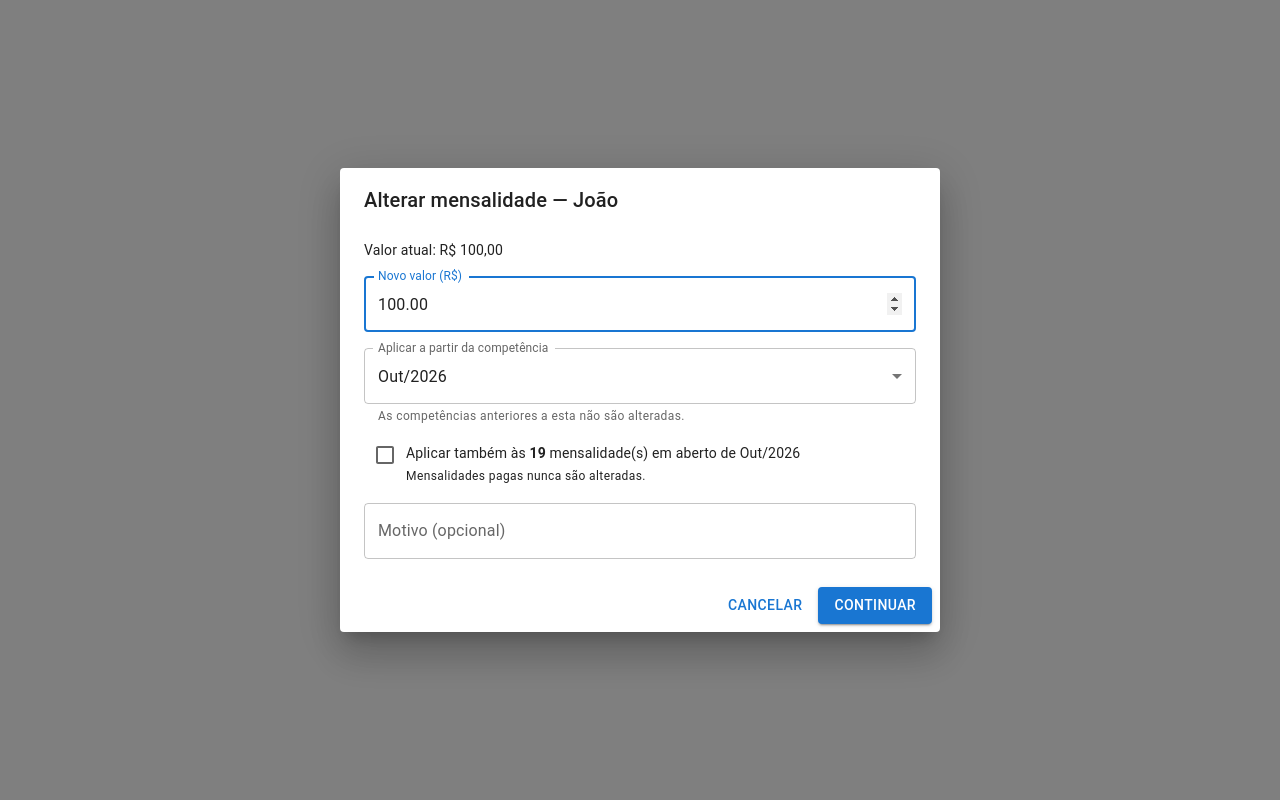
it: aplicar às mensalidades em aberto › marcada, o resumo passa a dizer que elas serão atualizadas
This screenshot has width=1280, height=800.
Click the checkbox labelled "Aplicar também às" at (587, 463), box [373,443,800,483]
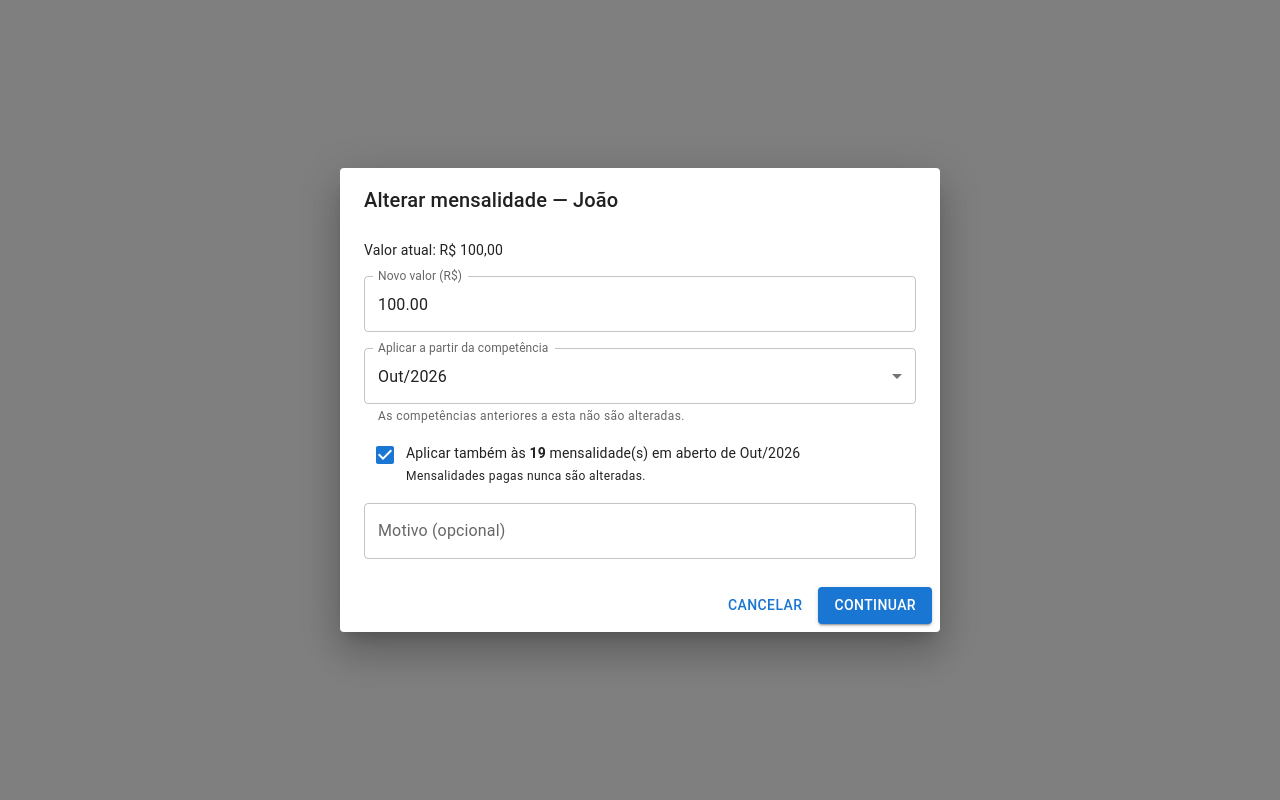
Click the button "Continuar" at (875, 605), box [818,587,932,624]
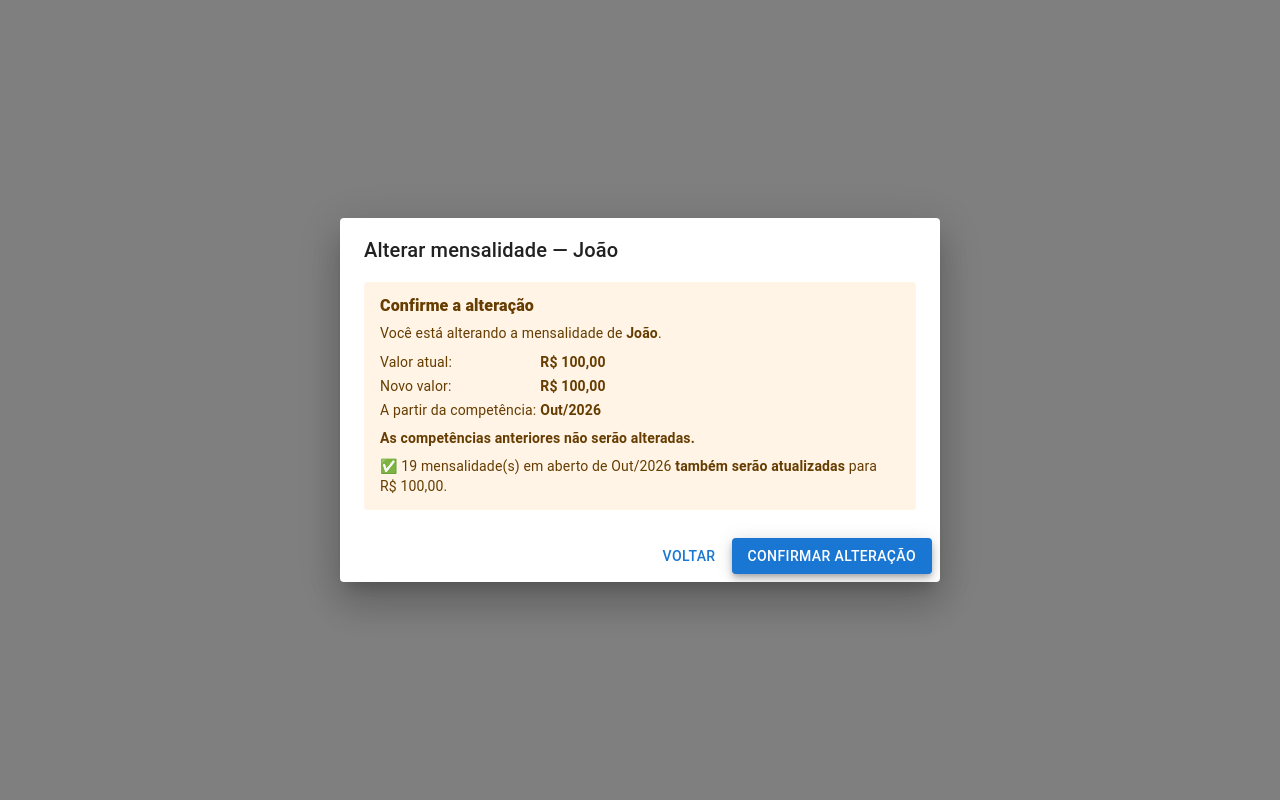
Expected: the message with test id "fee-change-confirmation" shows "19 mensalidade(s) em aberto", [364,282,916,510]
Expected: the message with test id "fee-change-confirmation" shows "também serão atualizadas", [675,458,845,474]
